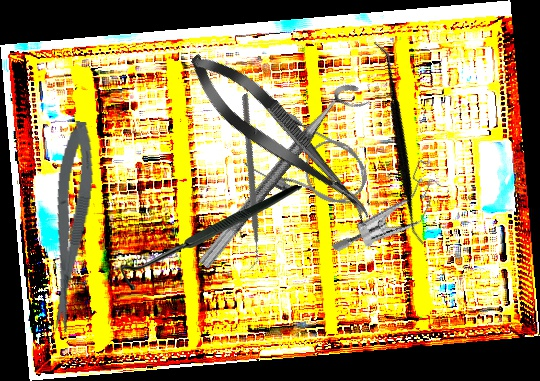Cannula: (241, 105, 378, 223)
Chopper: (160, 92, 333, 273)
Fixation Ring: (196, 77, 373, 282)
Hook Surgical: (121, 182, 302, 293)
Micro Scissor: (176, 40, 386, 235), (39, 119, 100, 334)
Spatula Surgical: (297, 39, 500, 248)
Speculum: (330, 137, 450, 280)
